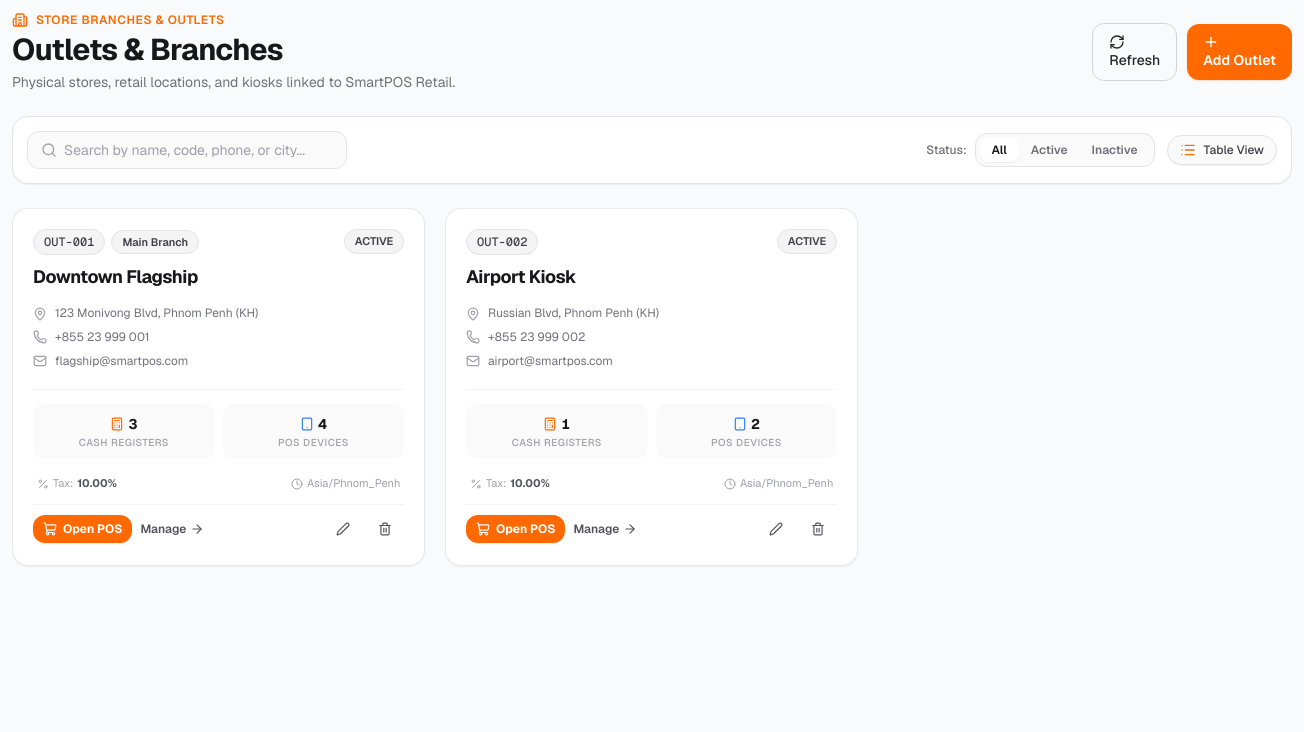
Test: BusinessOutletsPage Component › toggles to table view and displays dense columns
The image size is (1304, 732).
Expected: the link "Downtown Flagship" is shown, x1=33 y1=263 x2=198 y2=291
Click the button titled "Dense Table View" at point(1222, 150), box x1=1166 y1=135 x2=1277 y2=165
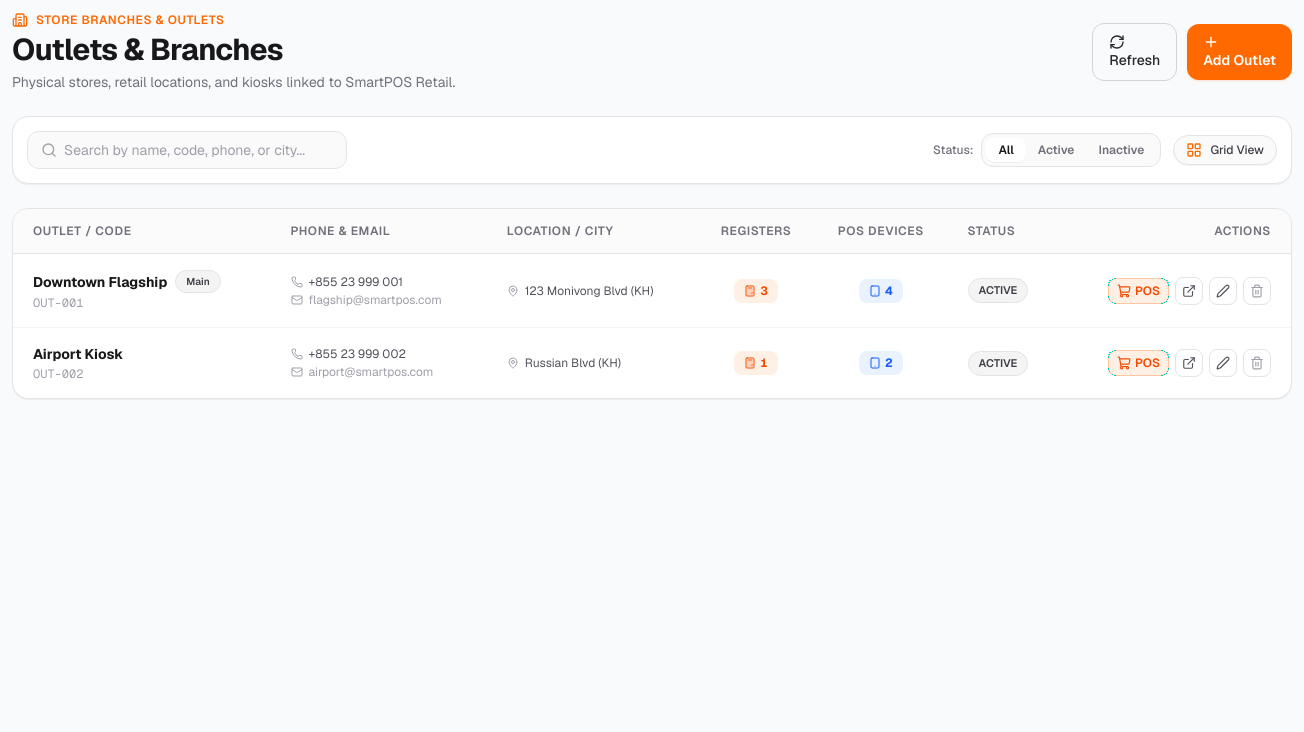
Expected: the column heading "Outlet / Code" is shown, x1=13 y1=209 x2=270 y2=254
Expected: the column heading "Phone & Email" is shown, x1=270 y1=209 x2=487 y2=254
Expected: the column heading "Location / City" is shown, x1=487 y1=209 x2=698 y2=254
